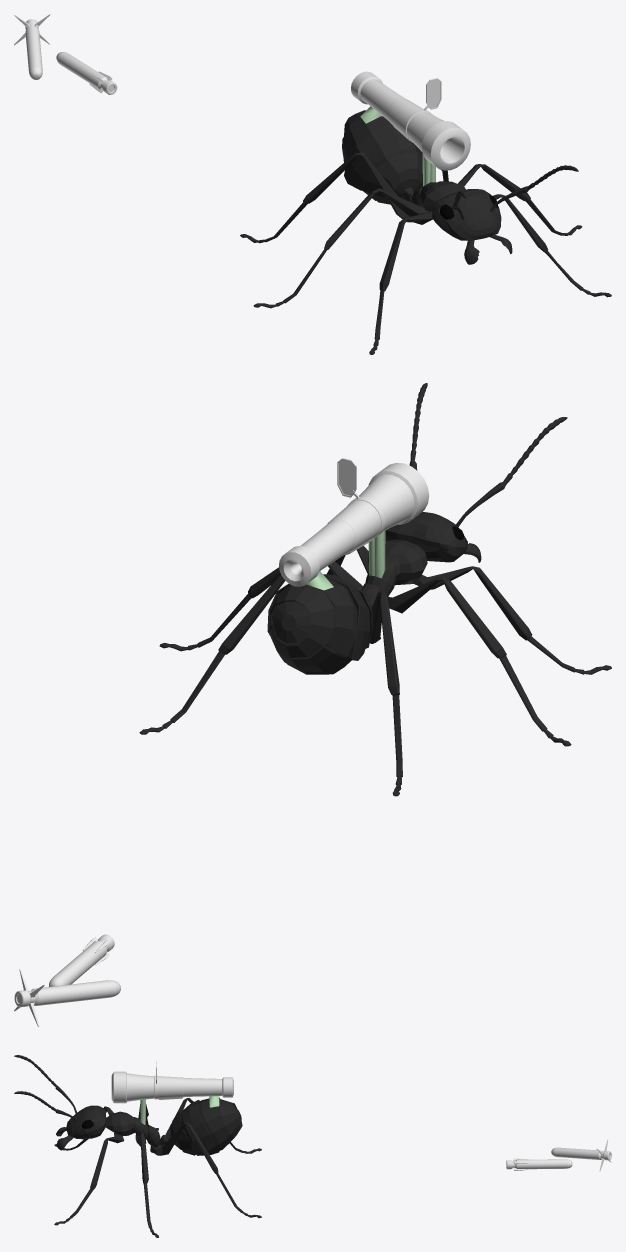
Rendered from ant_0.fbx.
3 renders of one model, top to bottom at view 1: azimuth 30°, elevation 25°; view 2: azimuth 150°, elevation 25°; view 3: azimuth 270°, elevation 25°, orthographic. The views are drawn at different scales.
Visible parts, largest first — view 1: Ant, bazooka_base_low.002; view 2: Ant, bazooka_base_low.002; view 3: Ant, bazooka_base_low.002.
Part boxes in pixels (x1,y1,x2,y2): Ant: (240,106,611,354); bazooka_base_low.002: (14,14,470,170); Ant: (139,383,611,796); bazooka_base_low.002: (14,458,429,1026); Ant: (14,1055,261,1237); bazooka_base_low.002: (111,1061,611,1171).
Bounding box in the file's own units: 182 × 101 × 422.
